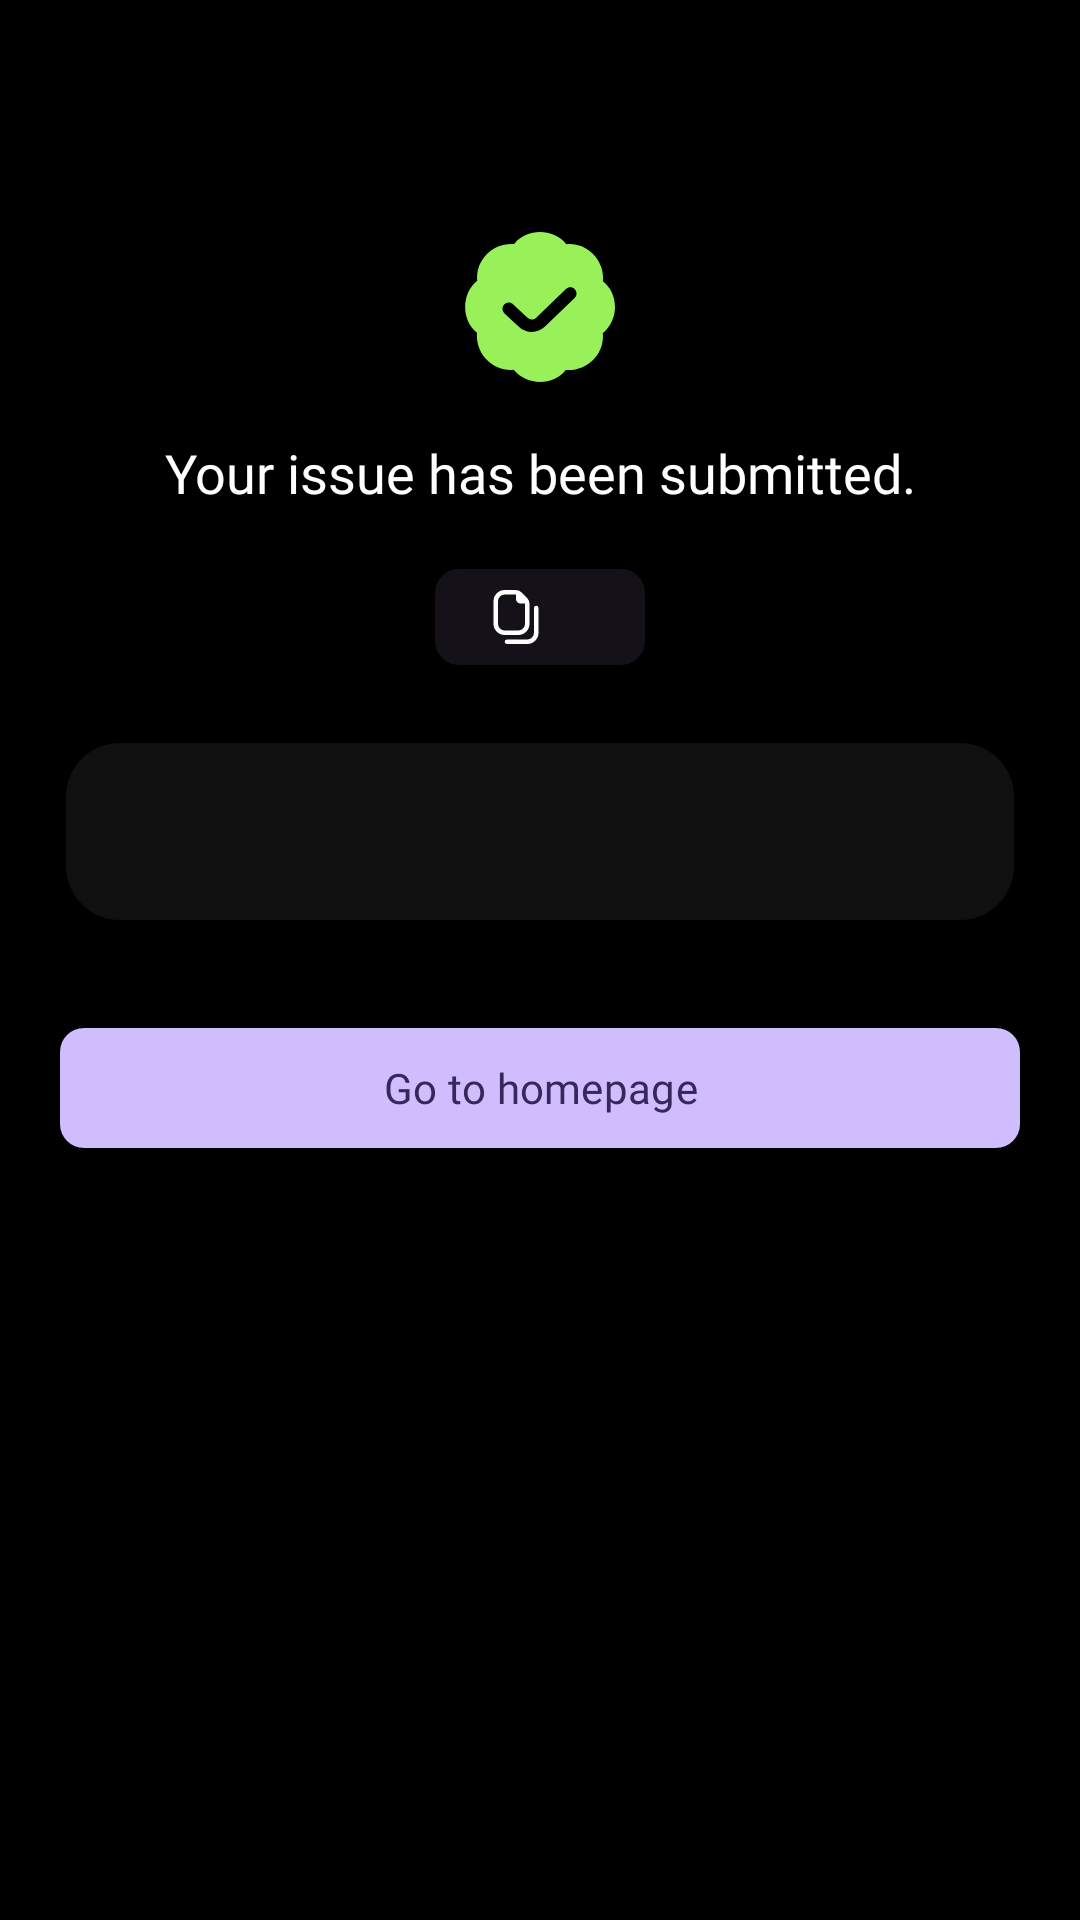

Screen size 1080w x 1920h. Icon name, then its center in pixels as (x,y):
verified: (540,307)
